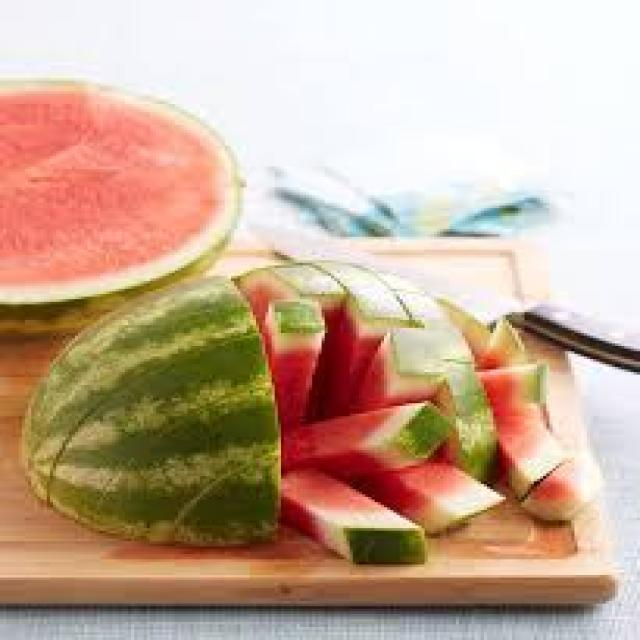watermelon: (240, 256, 575, 538), (19, 274, 281, 546), (0, 76, 244, 336)
